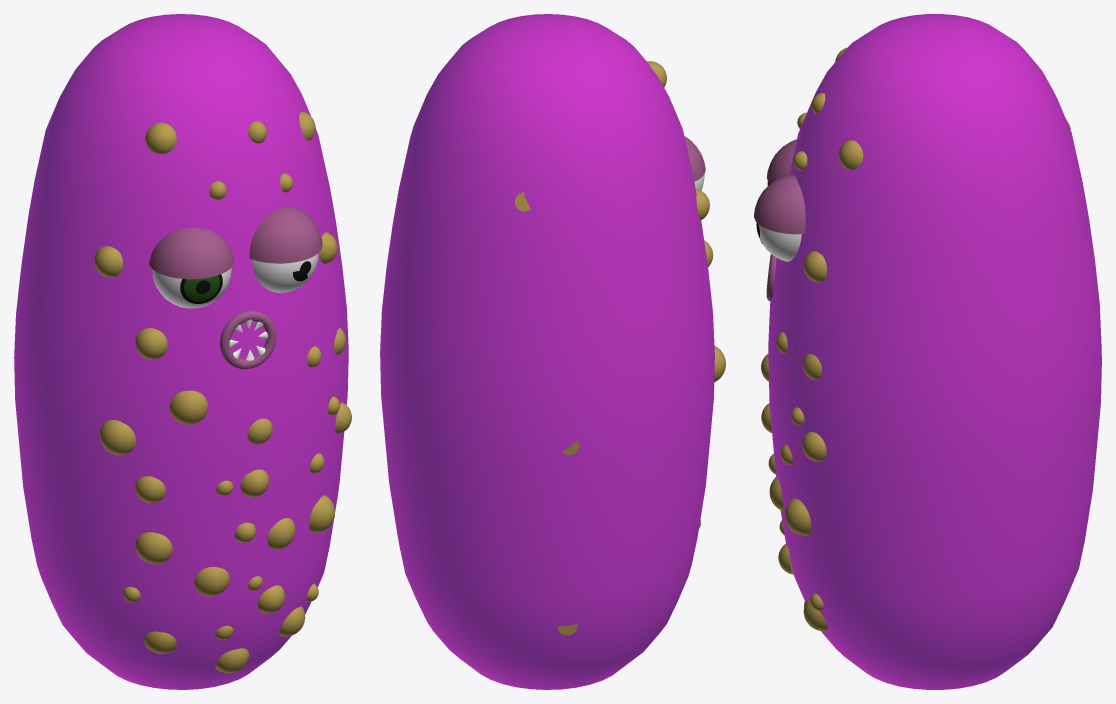
Rendered from SHI.FBX.
The picture shows the model from 3 angles, left to right: view 1: azimuth 30°, elevation 25°; view 2: azimuth 150°, elevation 25°; view 3: azimuth 270°, elevation 25°; orthographic projection.
Visible parts, largest first — view 1: Sphere001, Sphere004, Sphere005, Sphere002, Sphere039, Circle001, Sphere026, Sphere028, Sphere017, Sphere006, Sphere027, Sphere031 (+10 smaller); view 2: Sphere001; view 3: Sphere001, Sphere005, Sphere039, Sphere019, Sphere004, Sphere035, Sphere037, Sphere020.
Part boxes in pixels (bbox=[...]): Sphere001: bbox=[14, 14, 348, 689]; Sphere004: bbox=[149, 227, 233, 279]; Sphere005: bbox=[249, 206, 322, 263]; Sphere002: bbox=[152, 268, 231, 308]; Sphere039: bbox=[252, 253, 318, 292]; Circle001: bbox=[220, 310, 276, 369]; Sphere026: bbox=[169, 390, 208, 424]; Sphere028: bbox=[99, 420, 135, 455]; Sphere017: bbox=[135, 532, 172, 564]; Sphere006: bbox=[194, 567, 229, 596]; Sphere027: bbox=[135, 328, 167, 359]; Sphere031: bbox=[145, 122, 176, 153]; Sphere001: bbox=[380, 14, 714, 689]; Sphere001: bbox=[768, 14, 1101, 689]; Sphere005: bbox=[754, 175, 805, 234]; Sphere039: bbox=[756, 223, 801, 261]; Sphere019: bbox=[784, 498, 811, 535]; Sphere004: bbox=[767, 139, 796, 183]; Sphere035: bbox=[838, 140, 863, 170]; Sphere037: bbox=[803, 251, 826, 282]; Sphere020: bbox=[802, 431, 826, 461].
Size of the model in its own units: 113 by 242 by 118.
